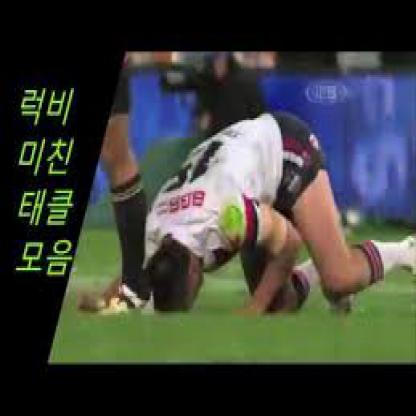Fall_Down: (85, 116, 414, 324)
